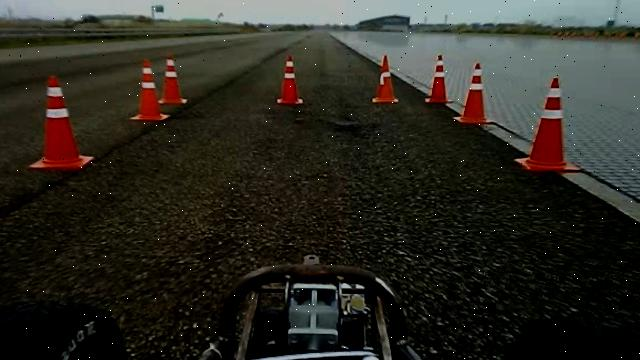red cone: (514, 76, 582, 172), (29, 74, 94, 171), (130, 59, 171, 121), (453, 62, 494, 124), (158, 54, 188, 105), (276, 54, 304, 105), (425, 54, 453, 103), (372, 55, 399, 103)
